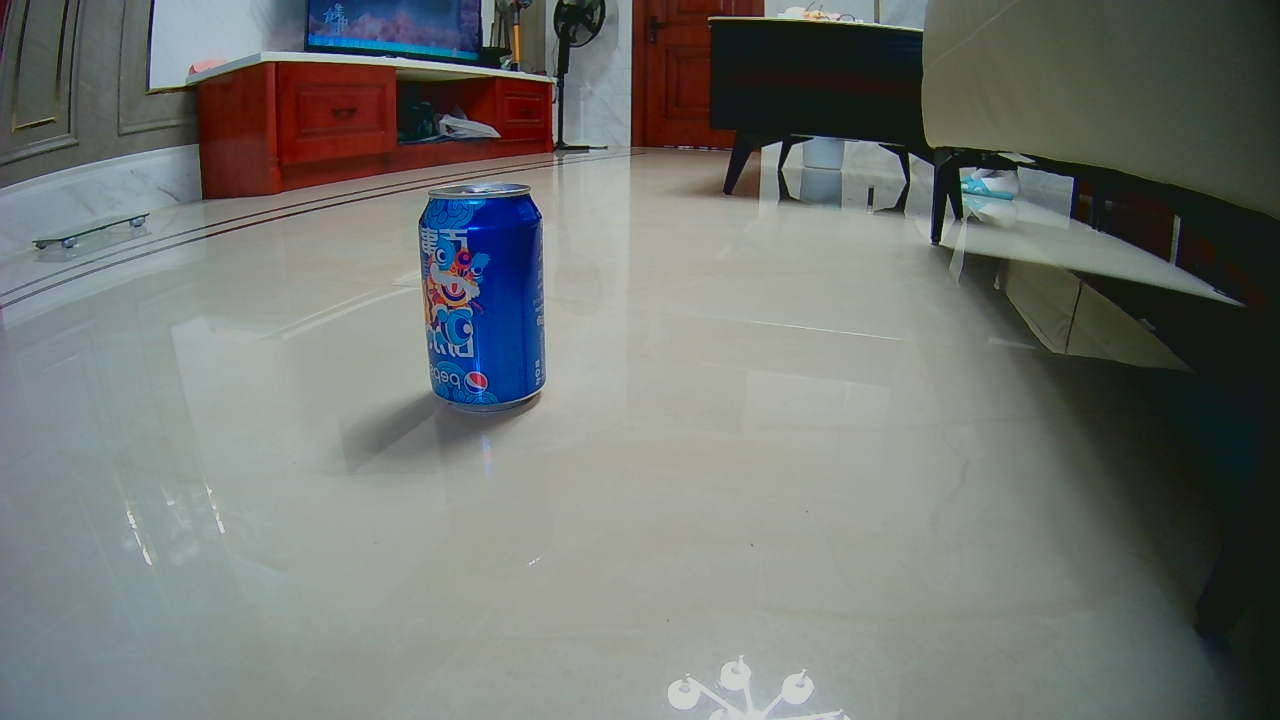pessi: (415, 187, 549, 403)
